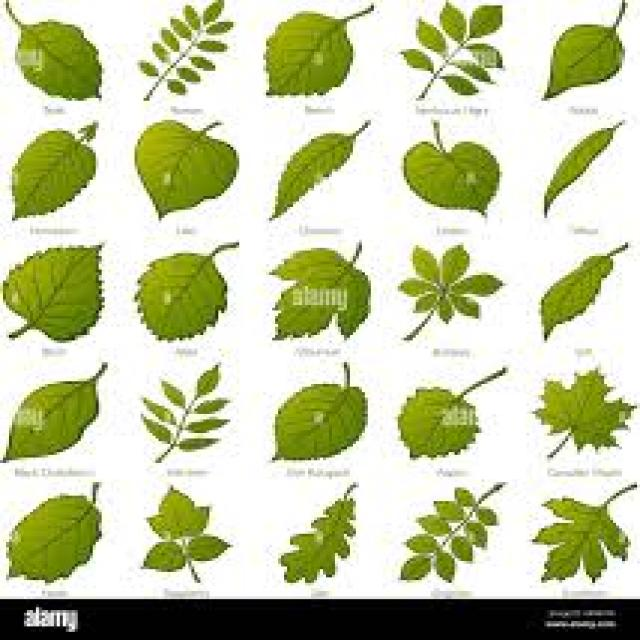leaves: (136, 120, 237, 218), (4, 364, 106, 459), (3, 245, 103, 341), (399, 245, 501, 339), (140, 243, 237, 341), (401, 367, 504, 458), (401, 485, 500, 579), (268, 6, 371, 96), (402, 4, 501, 97), (534, 486, 632, 579), (273, 245, 371, 338), (276, 121, 367, 218), (404, 123, 498, 213), (141, 0, 232, 92), (9, 9, 102, 99), (535, 370, 631, 457), (143, 366, 228, 462), (539, 245, 625, 338), (144, 487, 228, 581), (12, 125, 95, 218), (11, 497, 100, 581), (276, 376, 365, 459), (280, 487, 351, 581), (544, 126, 616, 214), (550, 24, 618, 98)
